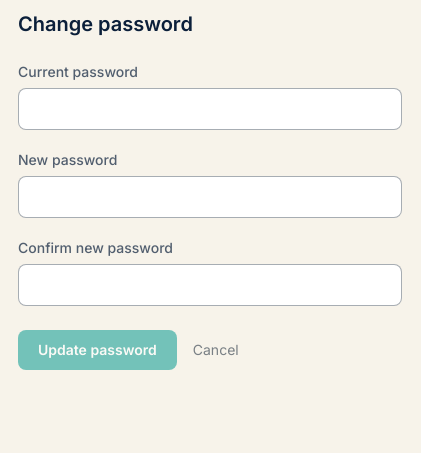
Test: ChangePasswordPage › shows error when form is submitted while userEmail is null
In the password field labelled "New password": point(210, 197) x1=18 y1=176 x2=402 y2=218, type "newpass123"
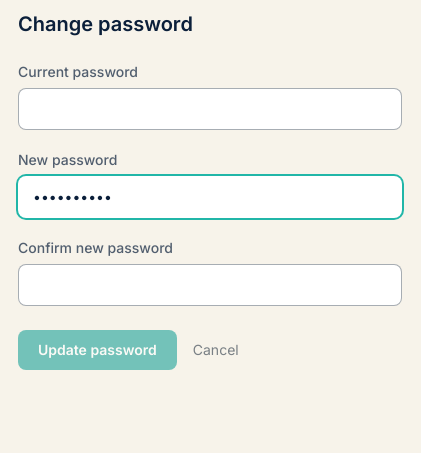
In the password field labelled "Confirm new password": point(210, 285) x1=18 y1=264 x2=402 y2=306, type "newpass123"
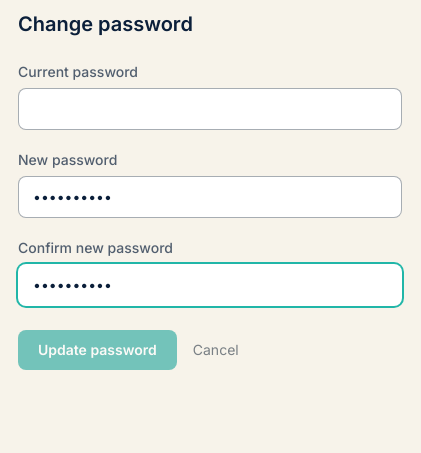
Submit the form "Update password"
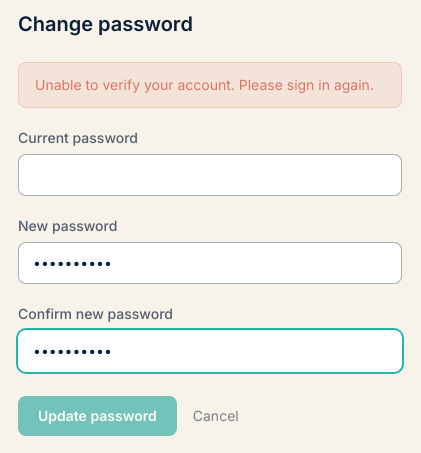
expect the message reads "Unable to verify your account. Please sign in again.": met, box x1=35 y1=76 x2=374 y2=93
